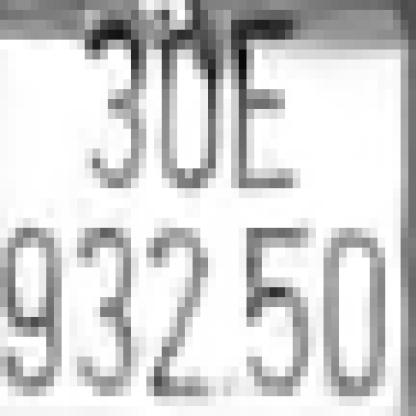0: (316, 218, 385, 396), (154, 20, 216, 198)
2: (146, 218, 208, 386)
3: (69, 218, 139, 386), (85, 20, 146, 198)
5: (231, 218, 308, 386)
E: (224, 10, 300, 198)
